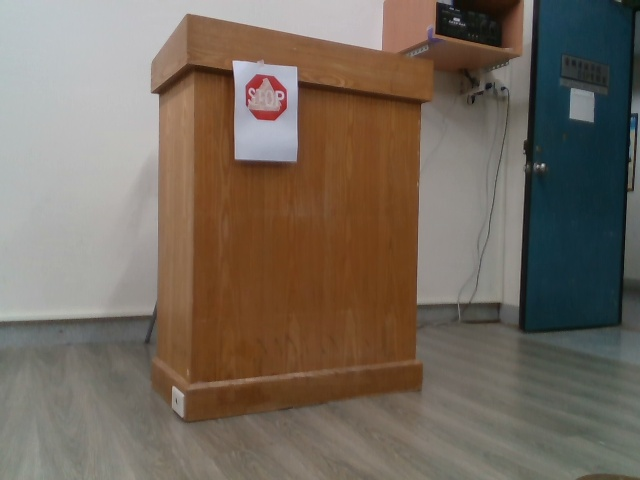stop: (244, 69, 292, 124)
